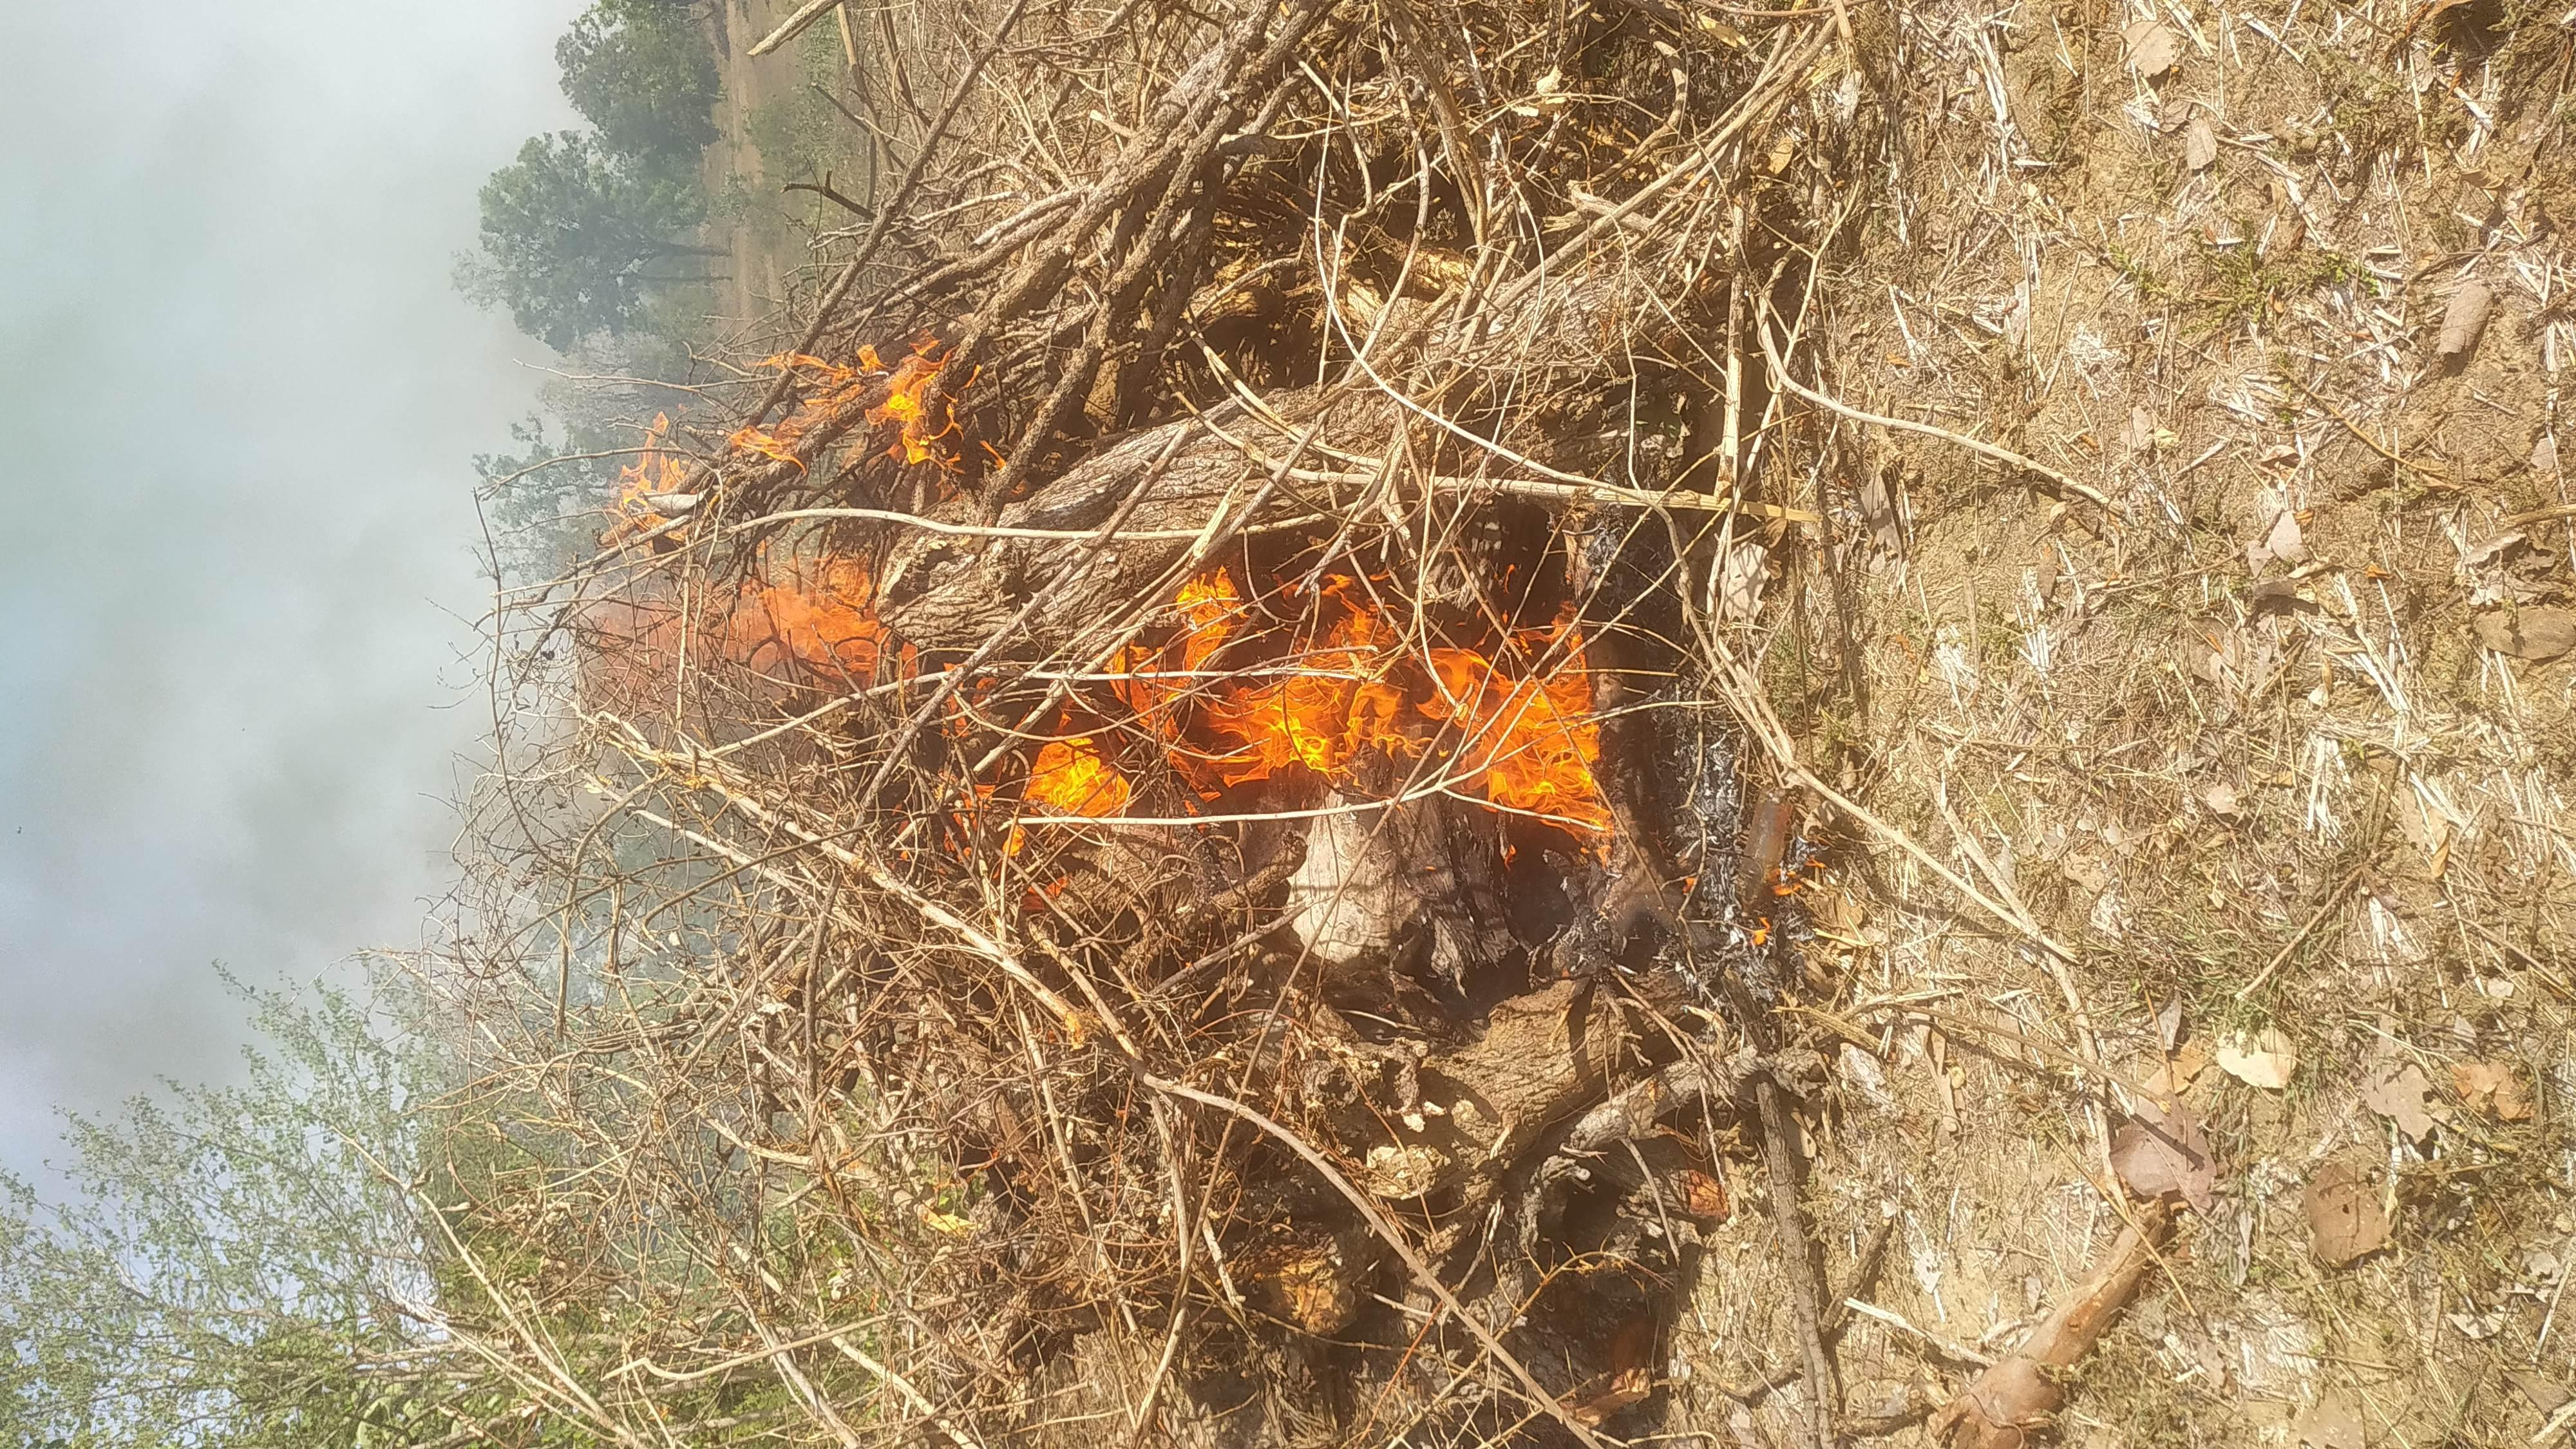fire: (1037, 566, 1569, 916)
